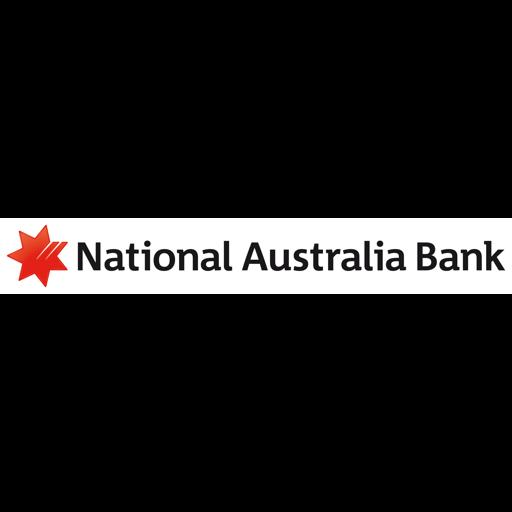National Australia Bank Limited: (0, 218, 512, 294)
